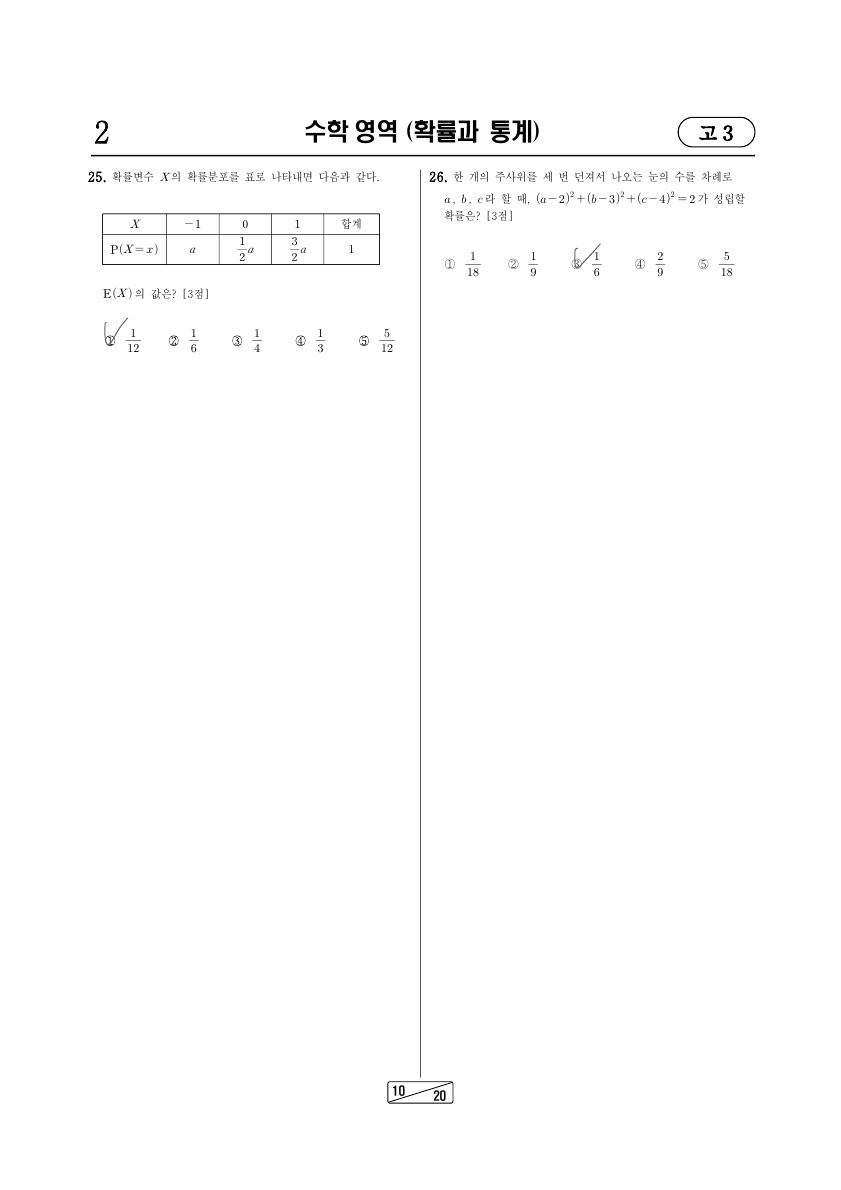question: (76, 161, 408, 365), (418, 160, 758, 298)
